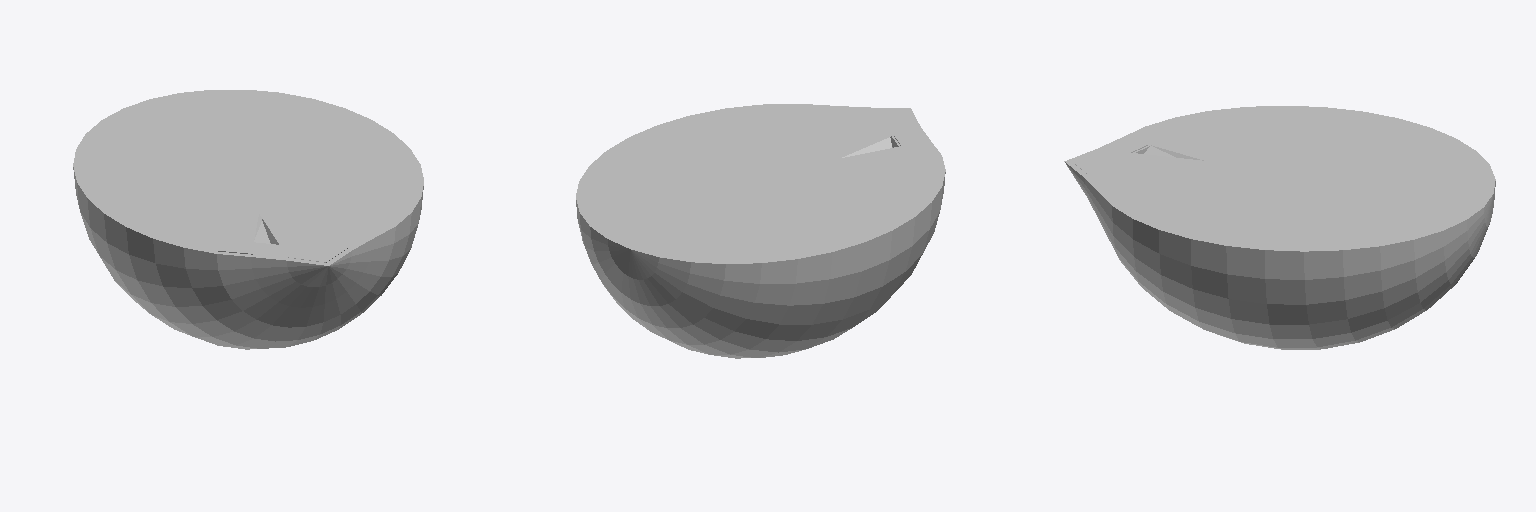
Rendered from Coconut.obj.
3 renders of one model, left to right at view 1: azimuth 30°, elevation 25°; view 2: azimuth 150°, elevation 25°; view 3: azimuth 270°, elevation 25°, orthographic.
Visible parts, largest first — view 1: Object001, Sphere001; view 2: Object001, Sphere001; view 3: Object001, Sphere001.
Part boxes in pixels (bbox=[...]): Object001: bbox=[73, 90, 423, 349]; Sphere001: bbox=[80, 93, 416, 262]; Object001: bbox=[576, 104, 945, 358]; Sphere001: bbox=[583, 105, 939, 260]; Object001: bbox=[1064, 106, 1495, 349]; Sphere001: bbox=[1072, 107, 1487, 248].
Bounding box in the file's own units: 254976 × 127550 × 318195.